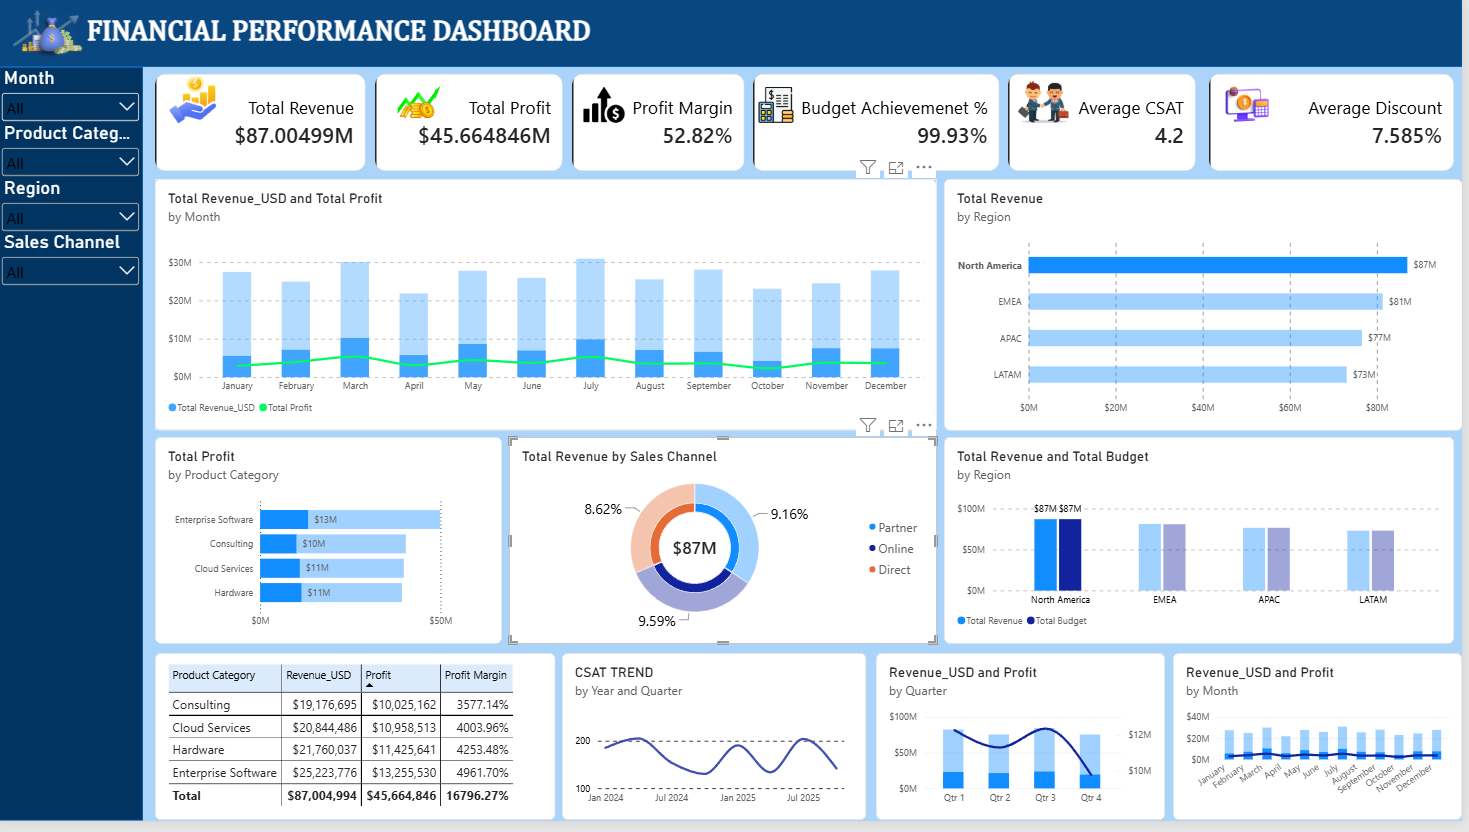

Layout of this report page (visuals, bound fields, positions):
{"tool":"powerbi","page":{"name":"Page 1","canvas":[1920,1080],"ordinal":0},"visuals":[{"type":"cardVisual","fields":{"Data":["global_finance_sales_dataset_1200_rows.Total Revenue"]},"box":[206.2,101.1,276.7,127.7],"z":0},{"type":"cardVisual","fields":{"Data":["global_finance_sales_dataset_1200_rows.Total Profit"]},"box":[494.8,101.1,246.1,127.7],"z":1000},{"type":"cardVisual","fields":{"Data":["Avg(global_finance_sales_dataset_1200_rows.Profit Margin)"]},"box":[752.8,101.1,226.1,127.7],"z":2000},{"type":"cardVisual","fields":{"Data":["global_finance_sales_dataset_1200_rows.Average Discount"]},"box":[1588.1,101.1,321.9,127.7],"z":3000},{"type":"cardVisual","fields":{"Data":["global_finance_sales_dataset_1200_rows.Budget Achievemenet %"]},"box":[989.6,101.1,323.2,127.7],"z":4000},{"type":"cardVisual","fields":{"Data":["global_finance_sales_dataset_1200_rows.Average CSAT"]},"box":[1324.7,101.1,246.1,127.7],"z":5000},{"type":"shape","box":[0,91.8,190.2,988.2],"z":6000},{"type":"lineClusteredColumnComboChart","fields":{"Category":["global_finance_sales_dataset_1200_rows.Date.Variation.Date Hierarchy.Month"],"Y":["Sum(global_finance_sales_dataset_1200_rows.Revenue_USD)"],"Y2":["global_finance_sales_dataset_1200_rows.Total Profit"]},"box":[206.2,238.1,1025.5,329.9],"z":7000},{"type":"clusteredBarChart","fields":{"Category":["global_finance_sales_dataset_1200_rows.Region"],"Y":["global_finance_sales_dataset_1200_rows.Total Revenue"]},"box":[1240.9,238.1,679.7,329.9],"z":8000},{"type":"barChart","fields":{"Category":["global_finance_sales_dataset_1200_rows.Product Category"],"Y":["global_finance_sales_dataset_1200_rows.Total Profit"]},"box":[206.2,577.2,454.9,271.3],"z":9000},{"type":"donutChart","fields":{"Category":["global_finance_sales_dataset_1200_rows.Sales Channel"],"Y":["global_finance_sales_dataset_1200_rows.Total Revenue"]},"box":[670.3,577.2,561.3,271.3],"z":10000},{"type":"clusteredColumnChart","fields":{"Category":["global_finance_sales_dataset_1200_rows.Region"],"Y":["global_finance_sales_dataset_1200_rows.Total Revenue","global_finance_sales_dataset_1200_rows.Total Budget"]},"box":[1240.9,577.2,669,271.3],"z":11000},{"type":"tableEx","fields":{"Values":["global_finance_sales_dataset_1200_rows.Product Category","Sum(global_finance_sales_dataset_1200_rows.Revenue_USD)","Sum(global_finance_sales_dataset_1200_rows.Profit)","Sum(global_finance_sales_dataset_1200_rows.Profit Margin)"]},"box":[206.2,860.5,525.4,219.5],"z":12000},{"type":"lineChart","fields":{"Category":["global_finance_sales_dataset_1200_rows.Date.Variation.Date Hierarchy.Year","global_finance_sales_dataset_1200_rows.Date.Variation.Date Hierarchy.Quarter"],"Y":["Sum(global_finance_sales_dataset_1200_rows.CSAT)"]},"box":[739.5,860.5,399,219.5],"z":13000},{"type":"textbox","box":[1368,861,542,219],"z":14000},{"type":"shape","box":[0,0,1920.6,91.8],"z":16000},{"type":"textbox","box":[117,25.3,806,66.5],"z":17000},{"type":"slicer","fields":{"Values":["global_finance_sales_dataset_1200_rows.Region"]},"box":[0,235.4,190.2,71.8],"z":18000},{"type":"slicer","fields":{"Values":["global_finance_sales_dataset_1200_rows.Product Category"]},"box":[0,163.6,190.2,71.8],"z":19000},{"type":"slicer","fields":{"Values":["global_finance_sales_dataset_1200_rows.Date.Variation.Date Hierarchy.Month"]},"box":[0,91.8,190.2,71.8],"z":20000},{"type":"slicer","fields":{"Values":["global_finance_sales_dataset_1200_rows.Sales Channel"]},"box":[0,307.2,190.2,71.8],"z":21000},{"type":"image","box":[0,0,130.3,101.1],"z":22000},{"type":"image","box":[206.2,102.4,98.4,62.5],"z":23000},{"type":"image","box":[494.8,102.4,109.1,74.5],"z":24000},{"type":"image","box":[752.8,118.4,83.8,46.6],"z":25000},{"type":"image","box":[978.9,118.4,83.8,46.6],"z":26000},{"type":"image","box":[1326.1,110.4,90.4,54.5],"z":27000},{"type":"image","box":[1589.4,110.4,98.4,62.5],"z":28000},{"type":"lineClusteredColumnComboChart","fields":{"Category":["global_finance_sales_dataset_1200_rows.Date.Variation.Date Hierarchy.Month"],"Y":["Sum(global_finance_sales_dataset_1200_rows.Revenue_USD)"],"Y2":["Sum(global_finance_sales_dataset_1200_rows.Profit)"]},"box":[1541.5,860.5,379.1,219.5],"z":28001},{"type":"lineClusteredColumnComboChart","fields":{"Category":["global_finance_sales_dataset_1200_rows.Date.Variation.Date Hierarchy.Quarter"],"Y":["Sum(global_finance_sales_dataset_1200_rows.Revenue_USD)"],"Y2":["Sum(global_finance_sales_dataset_1200_rows.Profit)"]},"box":[1151.8,860.5,379.1,219.5],"z":28002}]}

Visuals, with their boxes in screenshot pixels (x1, y1, x2, y2), scaled from the page's 1920x1080 canvas onto the 1469x832 screenshot:
cardVisual - global_finance_sales_dataset_1200_rows.Total Revenue: 158/78/369/176
cardVisual - global_finance_sales_dataset_1200_rows.Total Profit: 379/78/567/176
cardVisual - Avg(global_finance_sales_dataset_1200_rows.Profit Margin): 576/78/749/176
cardVisual - global_finance_sales_dataset_1200_rows.Average Discount: 1215/78/1461/176
cardVisual - global_finance_sales_dataset_1200_rows.Budget Achievemenet %: 757/78/1004/176
cardVisual - global_finance_sales_dataset_1200_rows.Average CSAT: 1014/78/1202/176
shape: 0/71/146/831
lineClusteredColumnComboChart - global_finance_sales_dataset_1200_rows.Date.Variation.Date Hierarchy.Month x Sum(global_finance_sales_dataset_1200_rows.Revenue_USD): 158/183/942/438
clusteredBarChart - global_finance_sales_dataset_1200_rows.Region x global_finance_sales_dataset_1200_rows.Total Revenue: 949/183/1468/438
barChart - global_finance_sales_dataset_1200_rows.Product Category x global_finance_sales_dataset_1200_rows.Total Profit: 158/445/506/654
donutChart - global_finance_sales_dataset_1200_rows.Sales Channel x global_finance_sales_dataset_1200_rows.Total Revenue: 513/445/942/654
clusteredColumnChart - global_finance_sales_dataset_1200_rows.Region x global_finance_sales_dataset_1200_rows.Total Revenue: 949/445/1461/654
tableEx - global_finance_sales_dataset_1200_rows.Product Category x Sum(global_finance_sales_dataset_1200_rows.Revenue_USD): 158/663/560/831
lineChart - global_finance_sales_dataset_1200_rows.Date.Variation.Date Hierarchy.Year x global_finance_sales_dataset_1200_rows.Date.Variation.Date Hierarchy.Quarter: 566/663/871/831
textbox: 1047/663/1461/831
shape: 0/0/1468/71
textbox: 90/19/706/71
slicer - global_finance_sales_dataset_1200_rows.Region: 0/181/146/237
slicer - global_finance_sales_dataset_1200_rows.Product Category: 0/126/146/181
slicer - global_finance_sales_dataset_1200_rows.Date.Variation.Date Hierarchy.Month: 0/71/146/126
slicer - global_finance_sales_dataset_1200_rows.Sales Channel: 0/237/146/292
image: 0/0/100/78
image: 158/79/233/127
image: 379/79/462/136
image: 576/91/640/127
image: 749/91/813/127
image: 1015/85/1084/127
image: 1216/85/1291/133
lineClusteredColumnComboChart - global_finance_sales_dataset_1200_rows.Date.Variation.Date Hierarchy.Month x Sum(global_finance_sales_dataset_1200_rows.Revenue_USD): 1179/663/1468/831
lineClusteredColumnComboChart - global_finance_sales_dataset_1200_rows.Date.Variation.Date Hierarchy.Quarter x Sum(global_finance_sales_dataset_1200_rows.Revenue_USD): 881/663/1171/831
